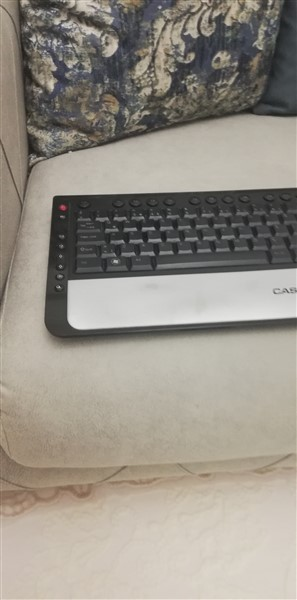klavye: (42, 188, 297, 343)
